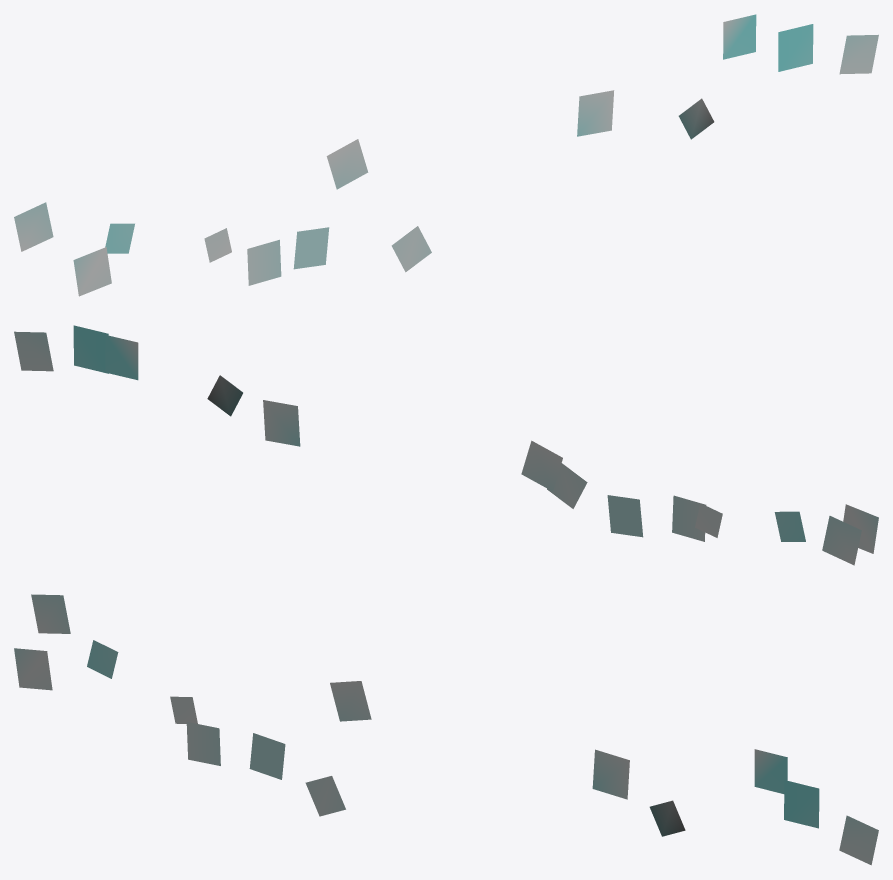
File: WaterSpray_V1.fbx
3 views of the same model, one above another, from view 1: azimuth 30°, elevation 25°; view 2: azimuth 150°, elevation 25°; view 3: azimuth 330°, elevation 25° (orthographic).
Visible parts, largest first — view 1: WaterSpray_V1_01; view 2: WaterSpray_V1_01; view 3: WaterSpray_V1_01.
Part boxes in pixels (bbox=[...]): WaterSpray_V1_01: bbox=[14, 14, 878, 296]; WaterSpray_V1_01: bbox=[14, 325, 878, 565]; WaterSpray_V1_01: bbox=[14, 594, 878, 865].
Bounding box in the file's own units: 1345 × 175 × 157.
